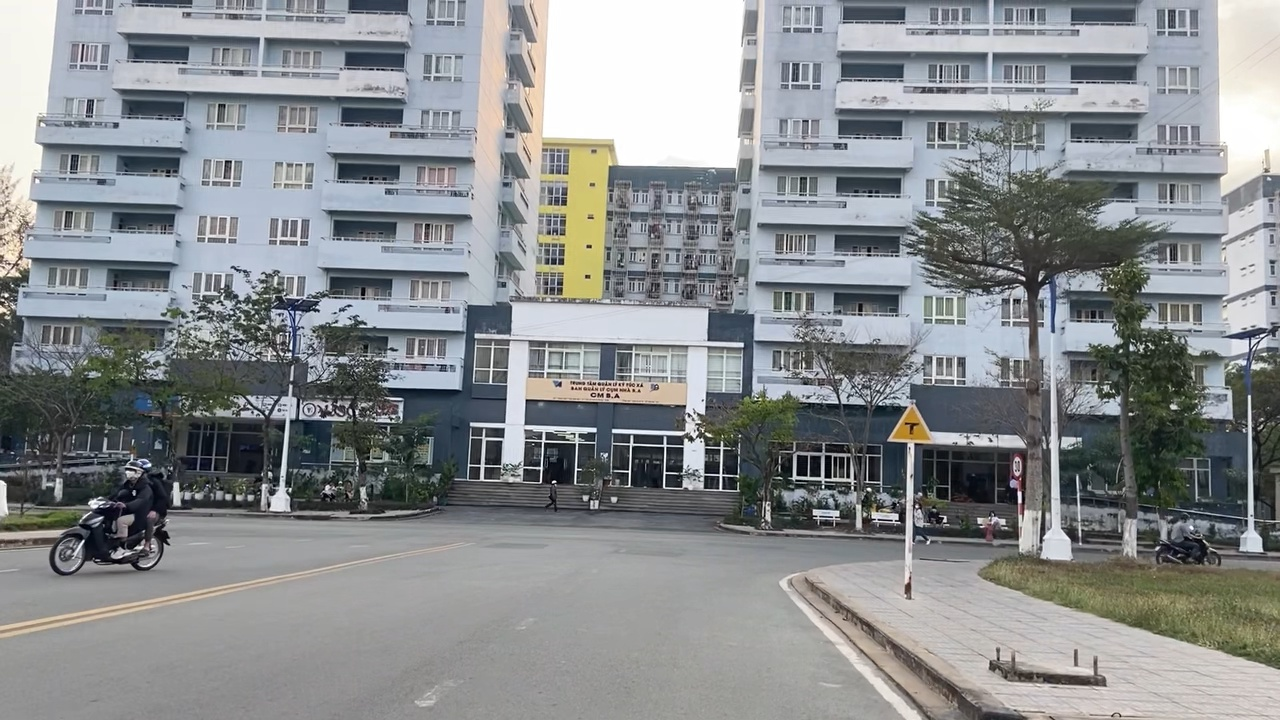giao_nhau_T: (885, 403, 938, 446)
